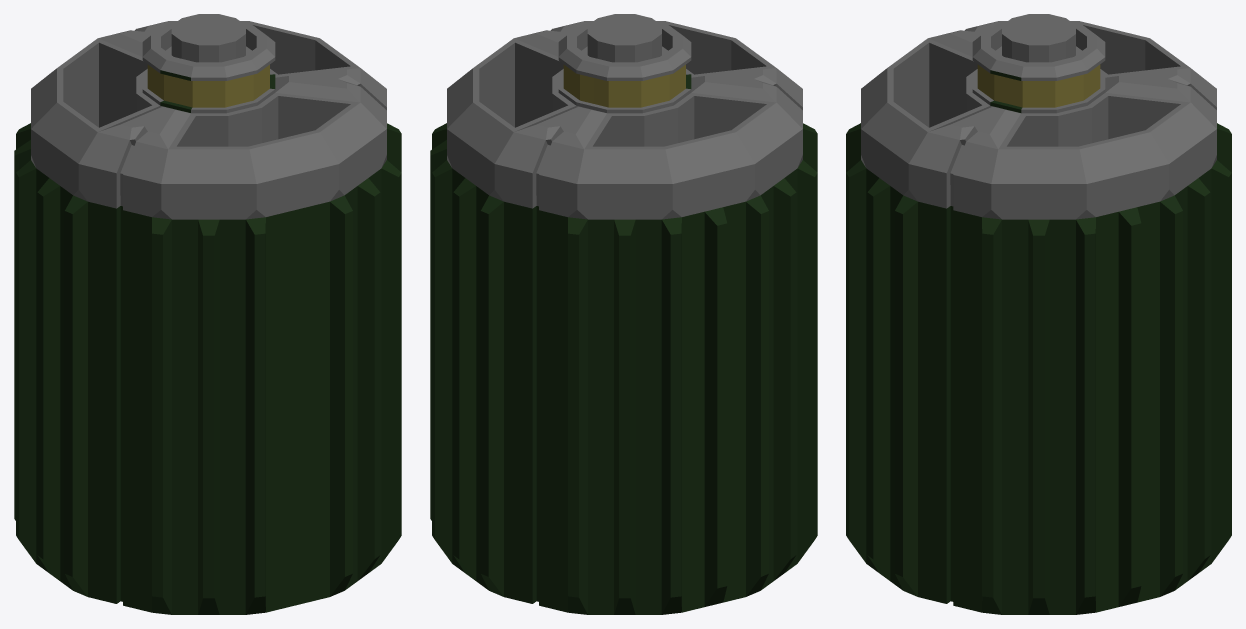
The model's file is TrashCan.fbx.
3 renders of one model, left to right at view 1: azimuth 30°, elevation 25°; view 2: azimuth 150°, elevation 25°; view 3: azimuth 270°, elevation 25°, orthographic.
Visible parts, largest first — view 1: TrashCan; view 2: TrashCan; view 3: TrashCan.
Boxes of the visible parts, <box> form: TrashCan: <box>14,14,401,614</box>; TrashCan: <box>430,14,817,614</box>; TrashCan: <box>846,14,1231,614</box>.
Bounding box in the file's own units: 53.05 × 76.68 × 52.55.
